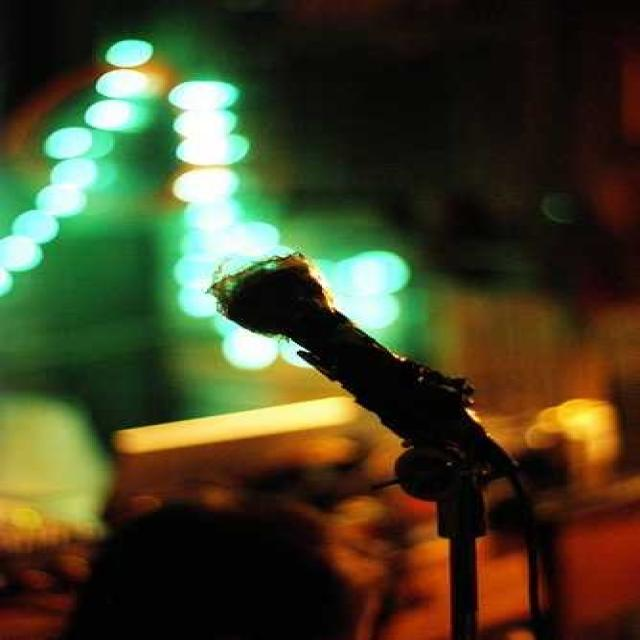microphone: (203, 251, 504, 478)
